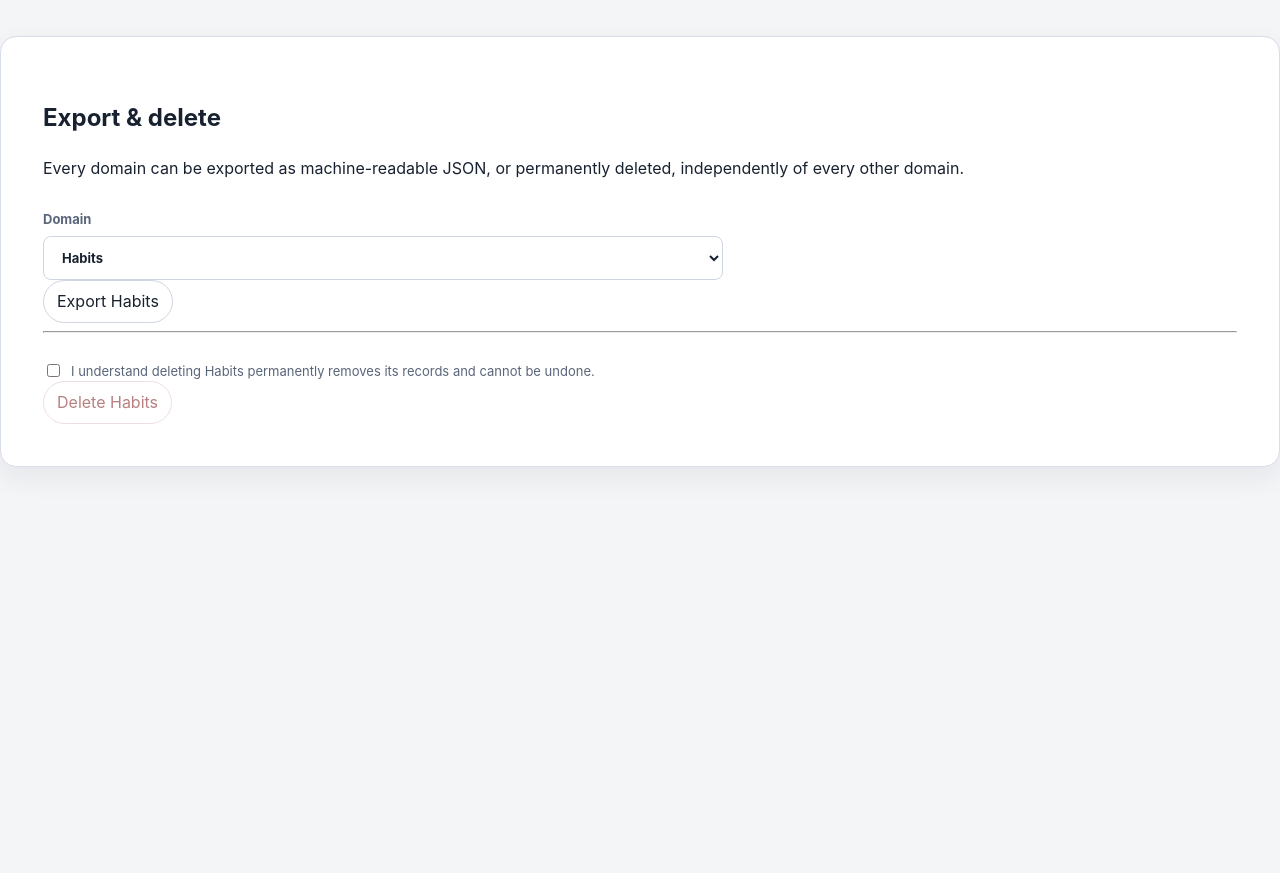
Test case: ExportDeletePanel › exports a domain and shows its item count
Click the button "Export Habits" at x=108, y=301, box [43, 280, 173, 323]
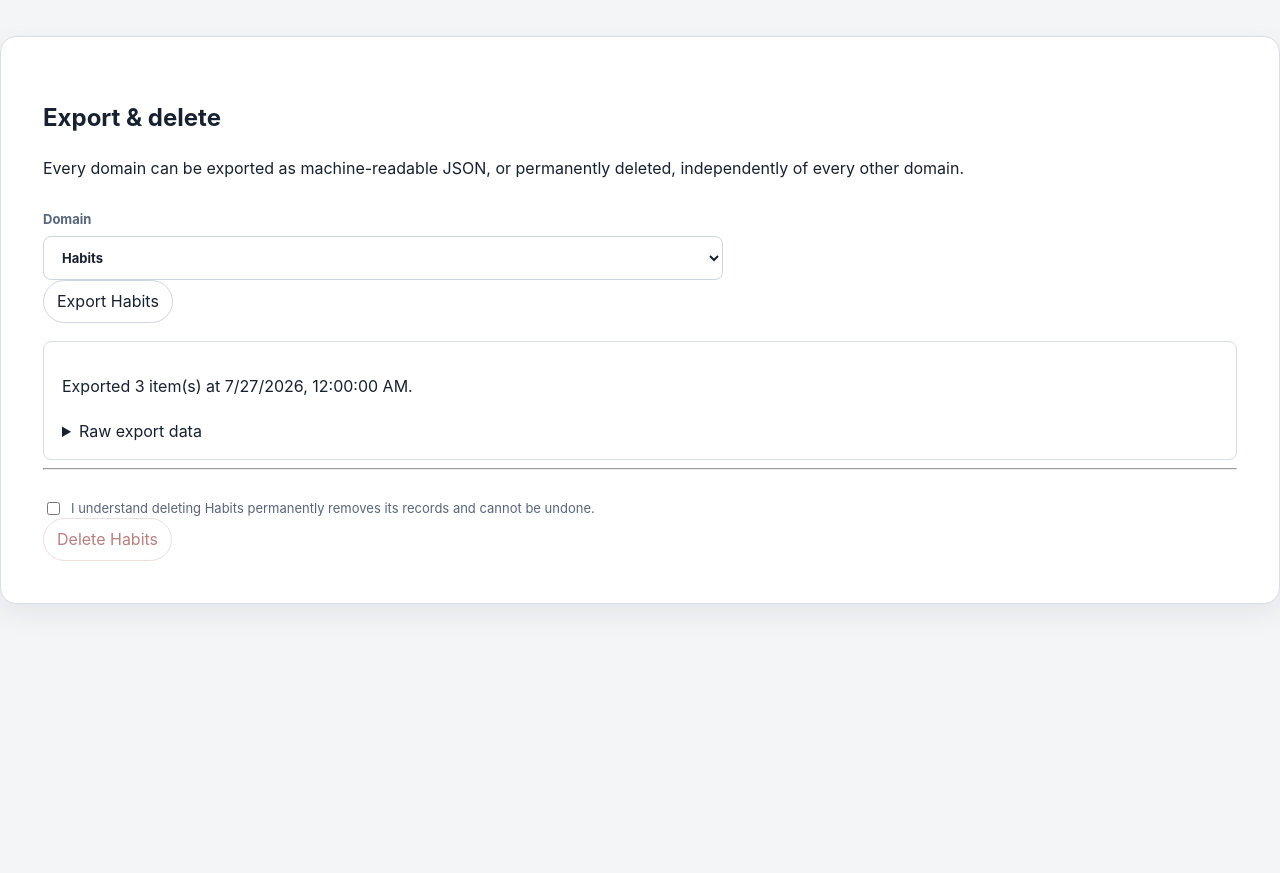
Now the text "Exported 3 item(s) at 7/27/2026, 12:00:00 AM." is shown, box [62, 376, 413, 396]
Click the heading "Raw export data" at x=140, y=430, box [79, 420, 202, 440]
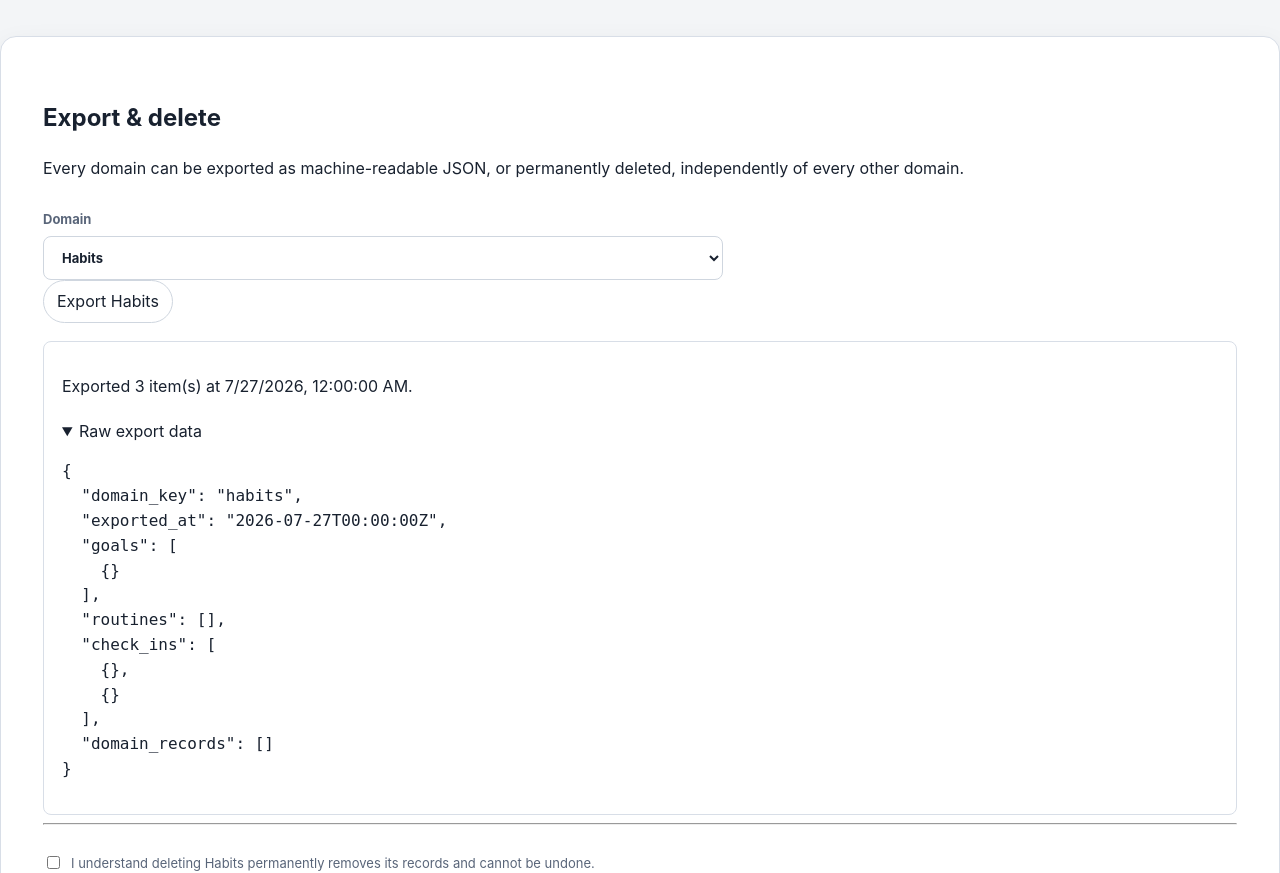
Now the text "\"domain_key\": \"habits\"" is shown, box [62, 461, 447, 778]
